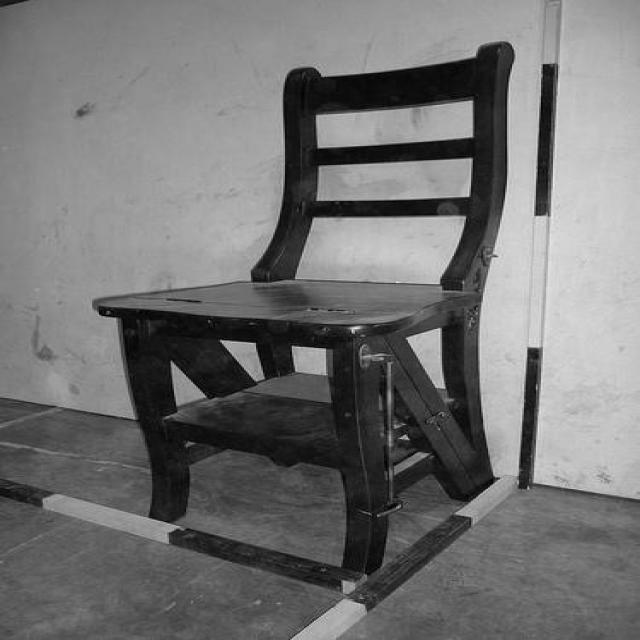chair: (93, 42, 525, 558)
